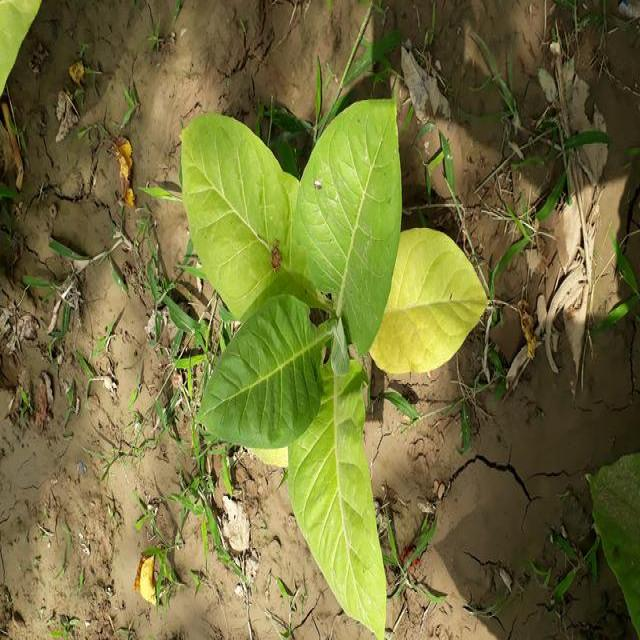crop: (174, 87, 494, 640)
